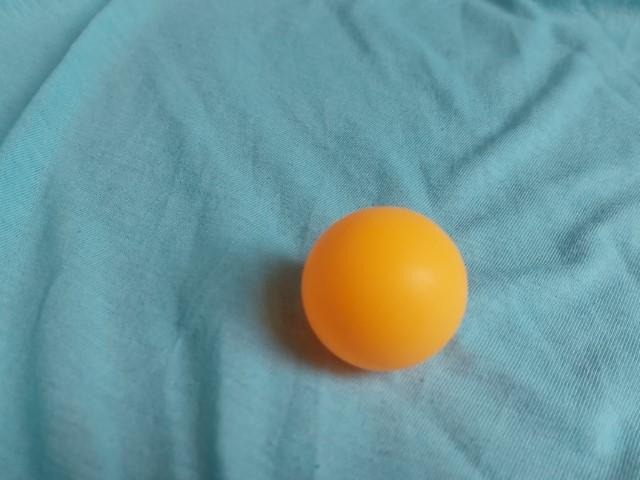oball: (293, 199, 478, 382)
